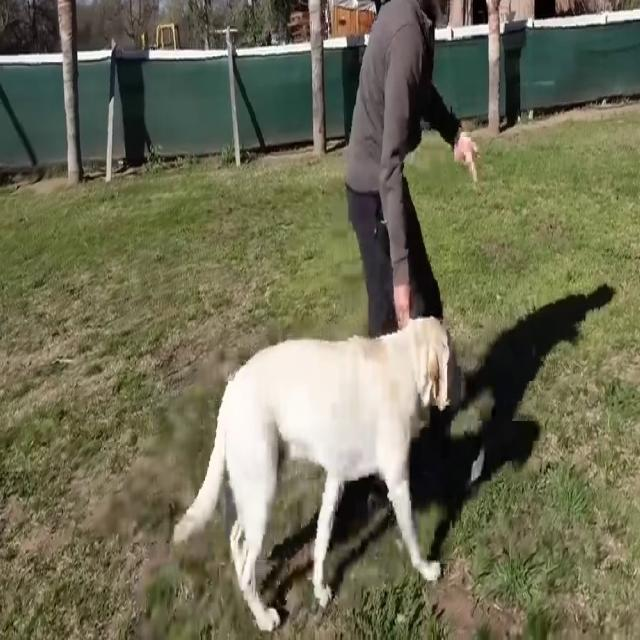Unleashed_Dog: (173, 192, 466, 632)
